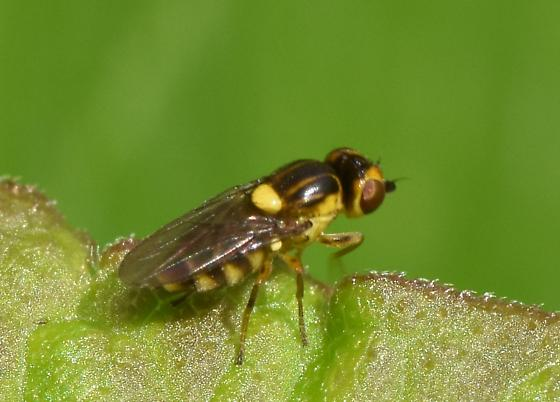Chloropidae: (117, 141, 412, 366)
